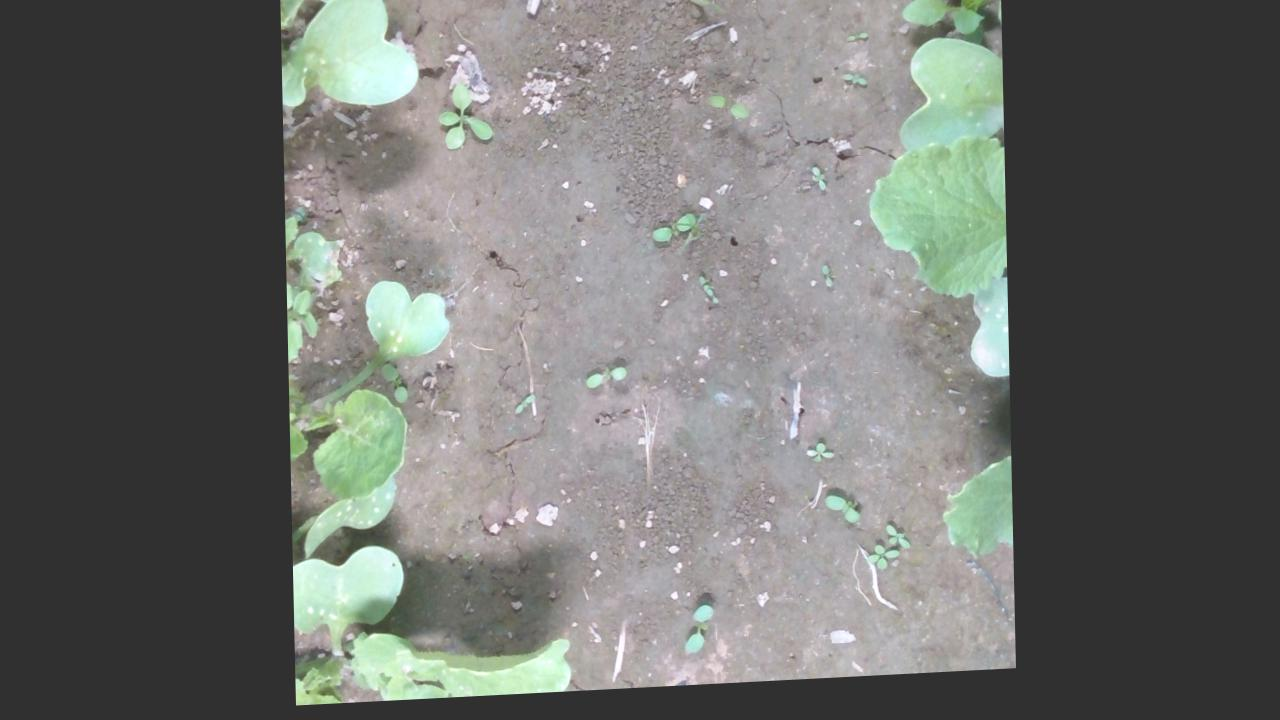weed: (434, 83, 493, 158), (678, 610, 713, 665), (703, 101, 750, 132), (580, 370, 626, 399), (820, 502, 858, 537), (802, 449, 833, 475), (838, 78, 867, 100), (510, 398, 533, 425), (807, 173, 827, 204), (818, 270, 833, 299), (843, 38, 869, 54)
